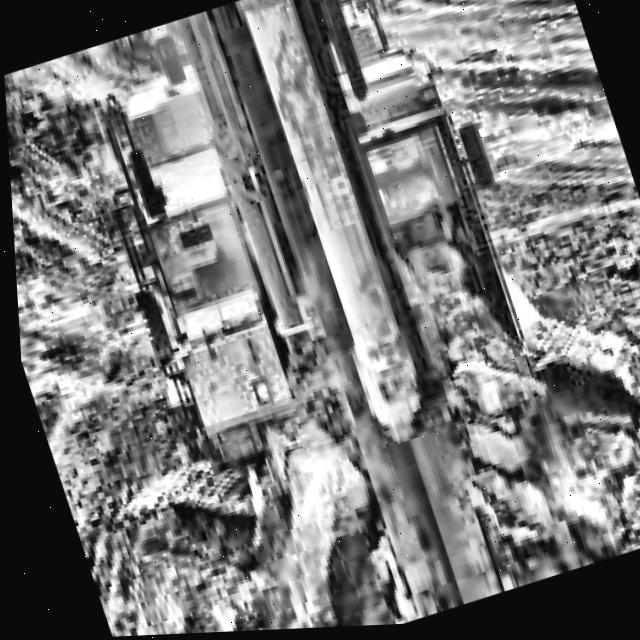excavator: (32, 0, 640, 639)
